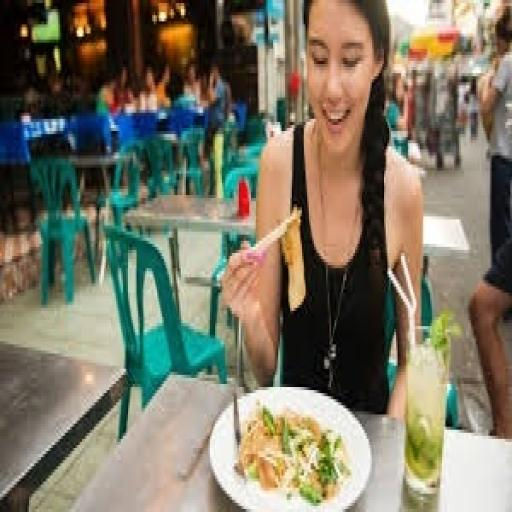eating: (218, 0, 425, 418)
